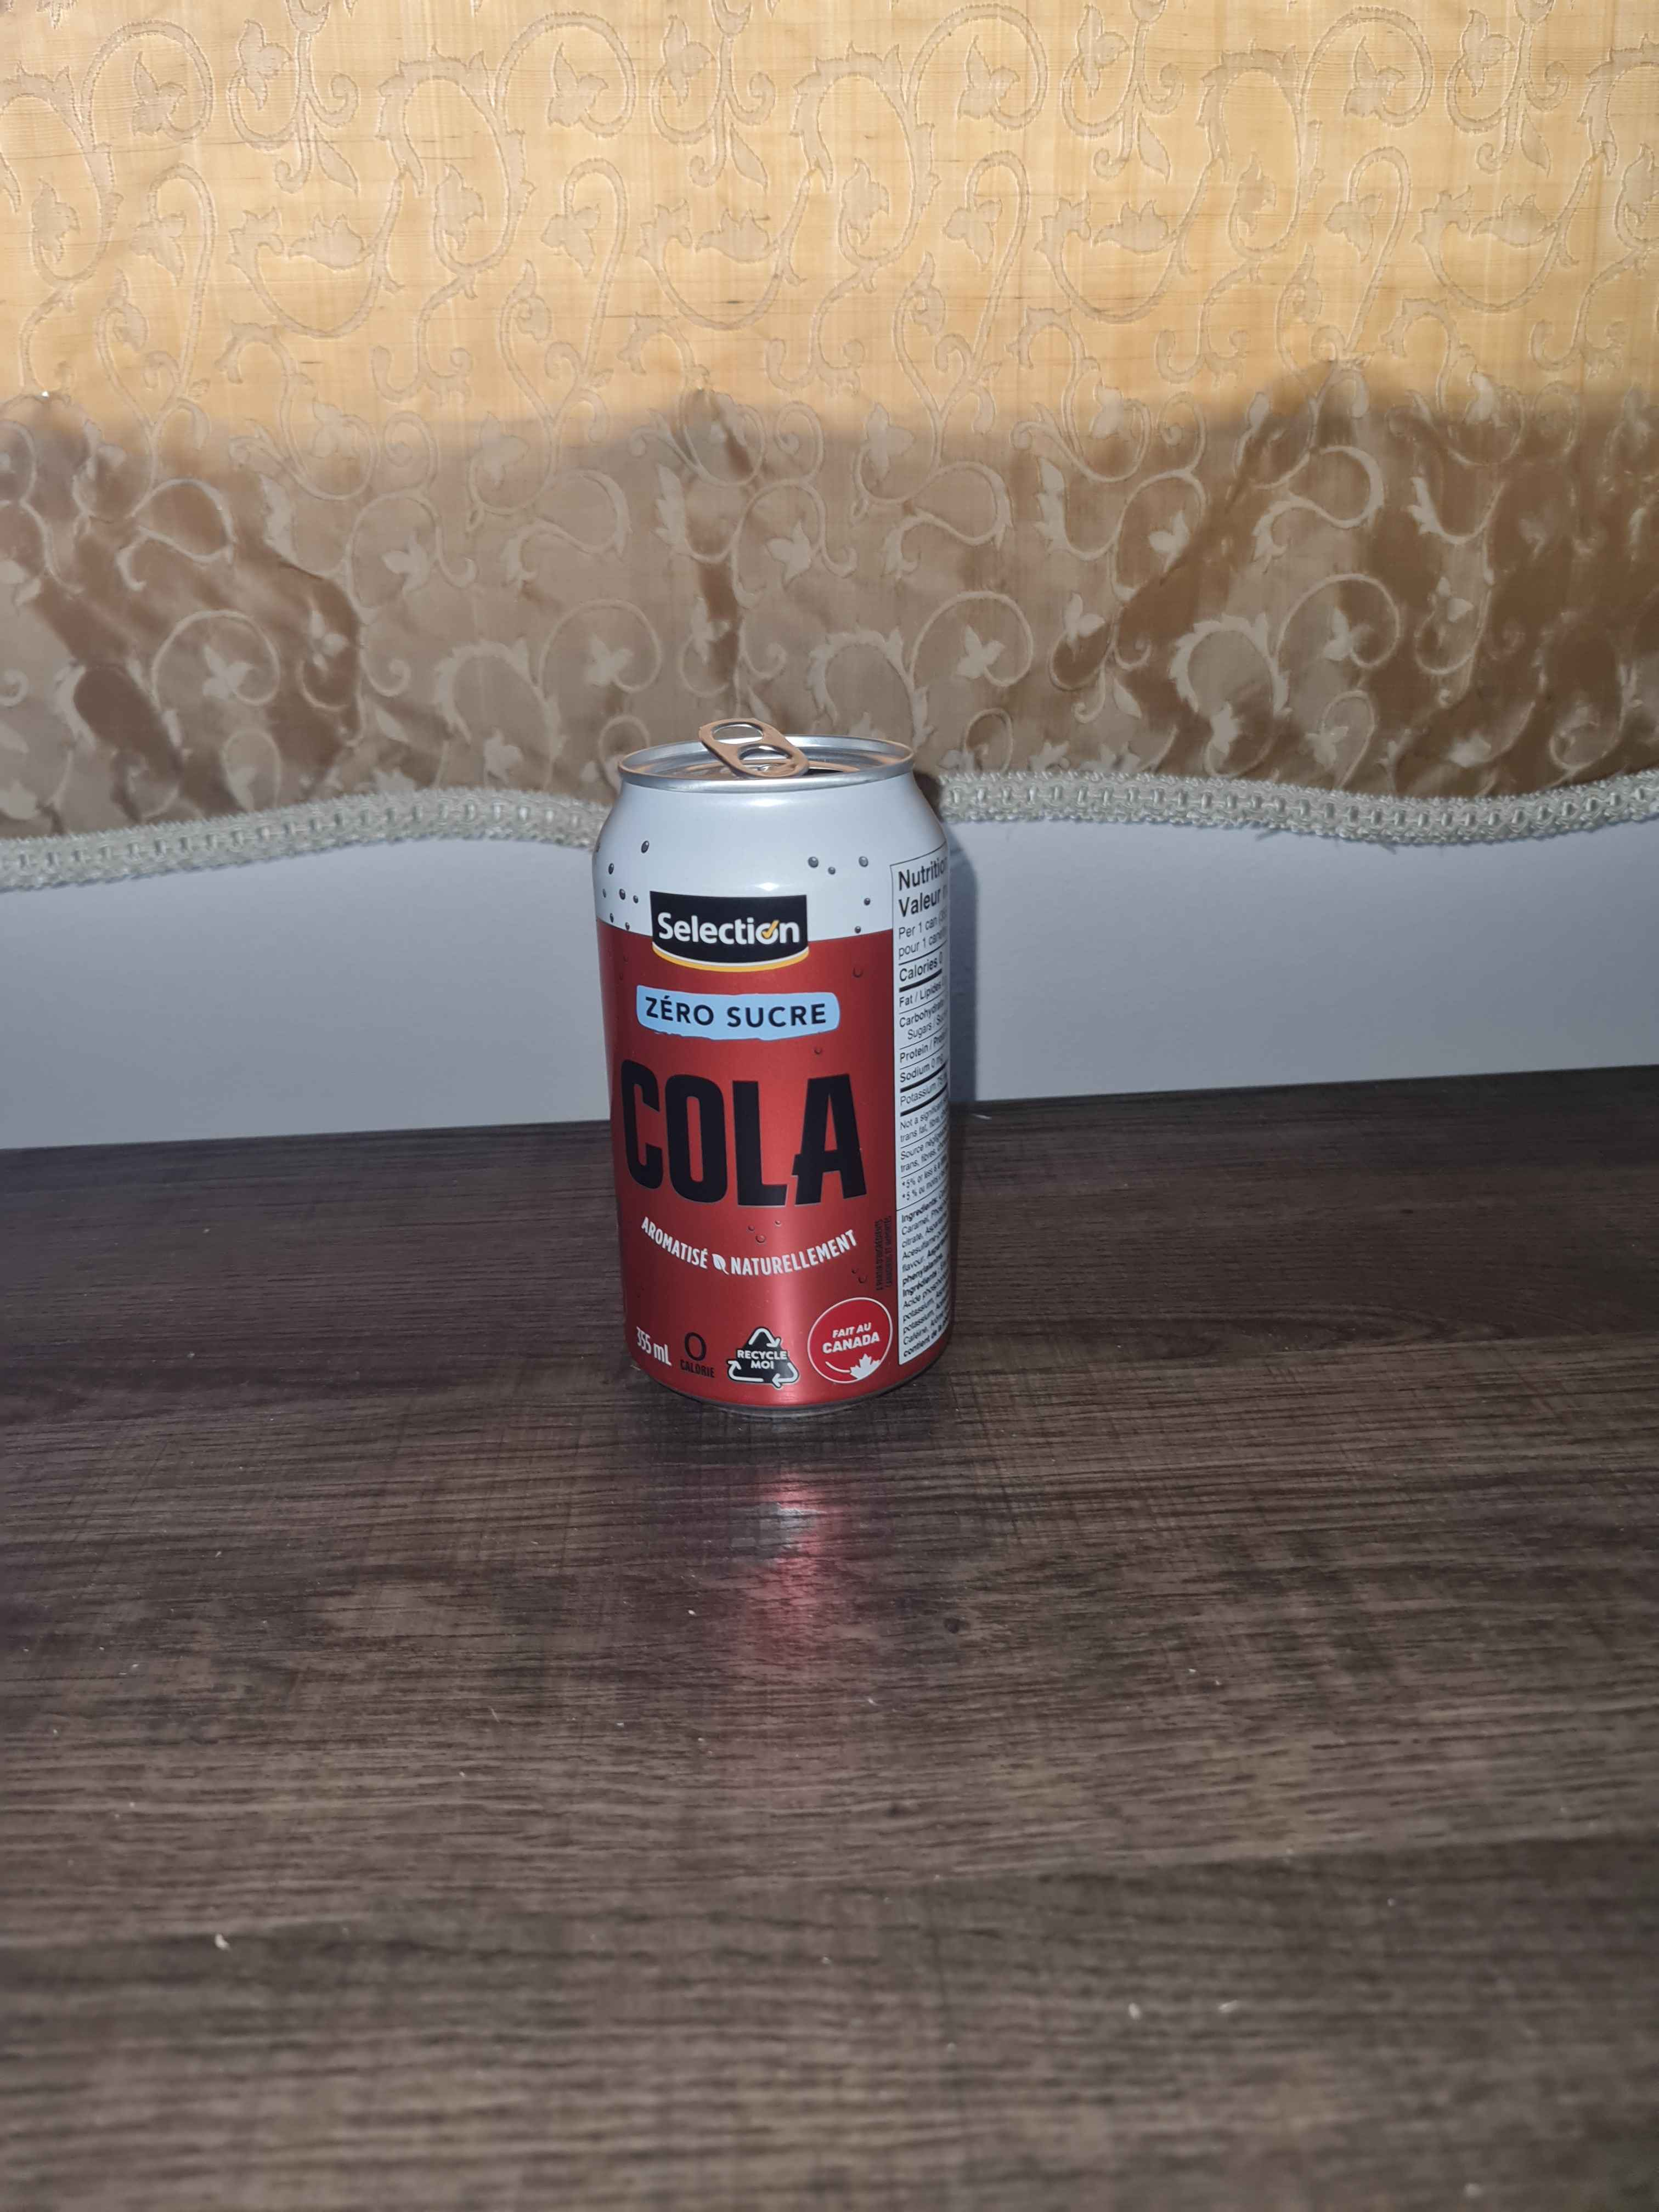soda can: (587, 716, 958, 1421)
